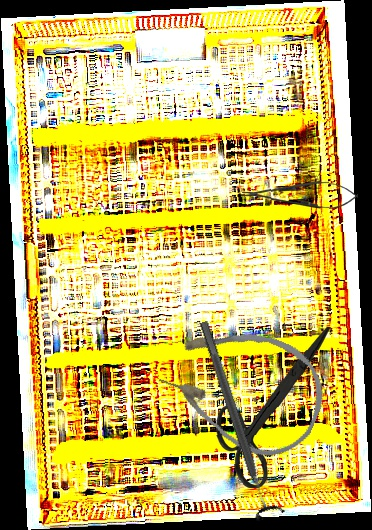Cannula: (147, 303, 339, 471)
Fixation Ring: (187, 316, 287, 523)
Iris Scissors: (212, 323, 333, 491)
Needle Holder: (241, 178, 359, 211)
